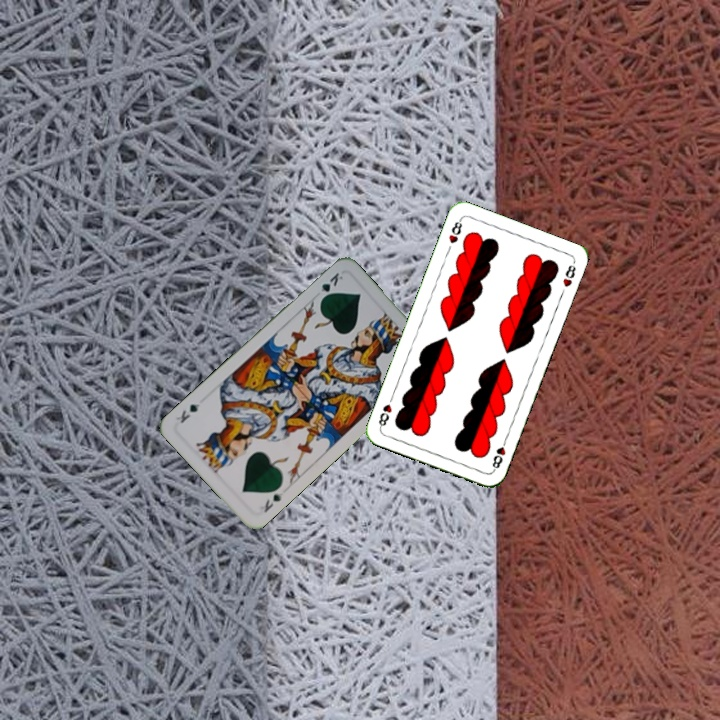GK: (315, 268, 346, 303), (260, 488, 286, 515)
H8: (488, 434, 509, 474), (445, 215, 465, 246)
